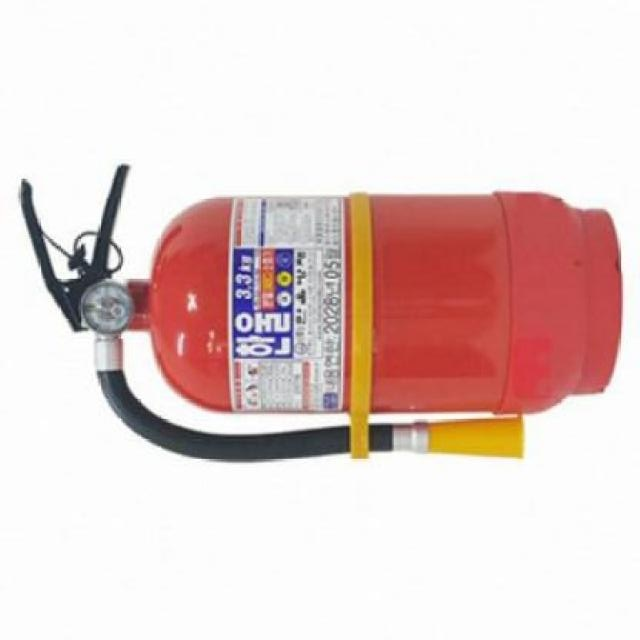fire extinguisher: (18, 162, 622, 464)
